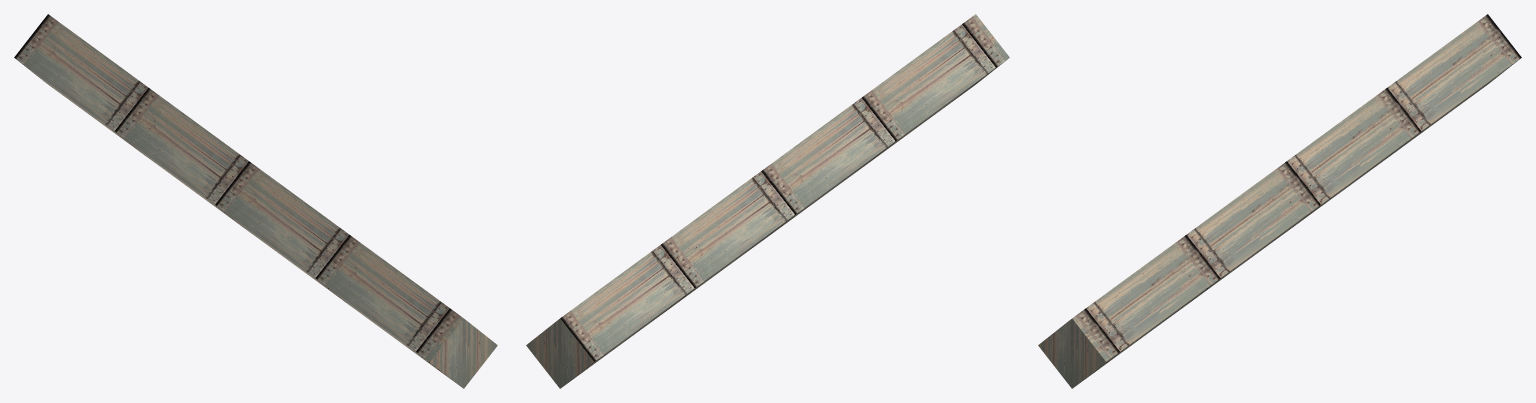
The model's file is pipe01_lod.fbx.
3 views of the same model, side by side, from view 1: azimuth 30°, elevation 25°; view 2: azimuth 150°, elevation 25°; view 3: azimuth 330°, elevation 25° (orthographic).
Parts seen in each view (by area): view 1: Mesh Object; view 2: Mesh Object; view 3: Mesh Object.
Boxes of the visible parts, box(x1,y1,x2,y2) form: Mesh Object: box(14, 14, 497, 388); Mesh Object: box(526, 14, 1009, 388); Mesh Object: box(1038, 14, 1521, 388).
Size of the model in its own units: 0.9883 by 0.9786 by 10.44.
